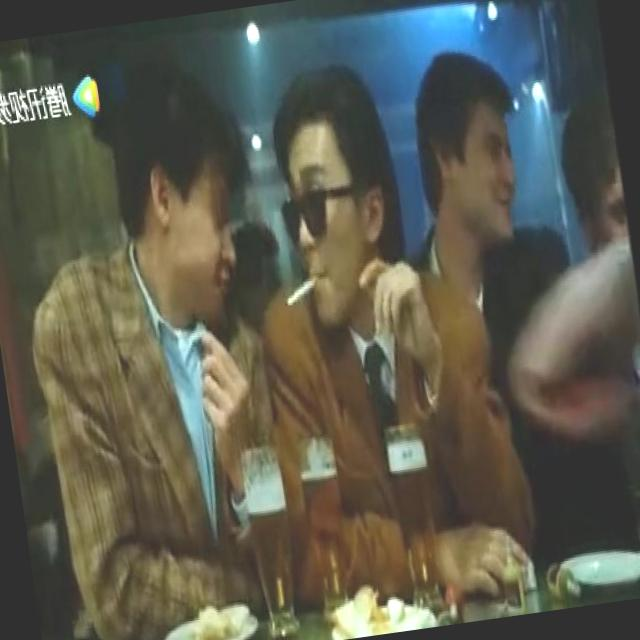cigarette: (276, 262, 327, 308)
